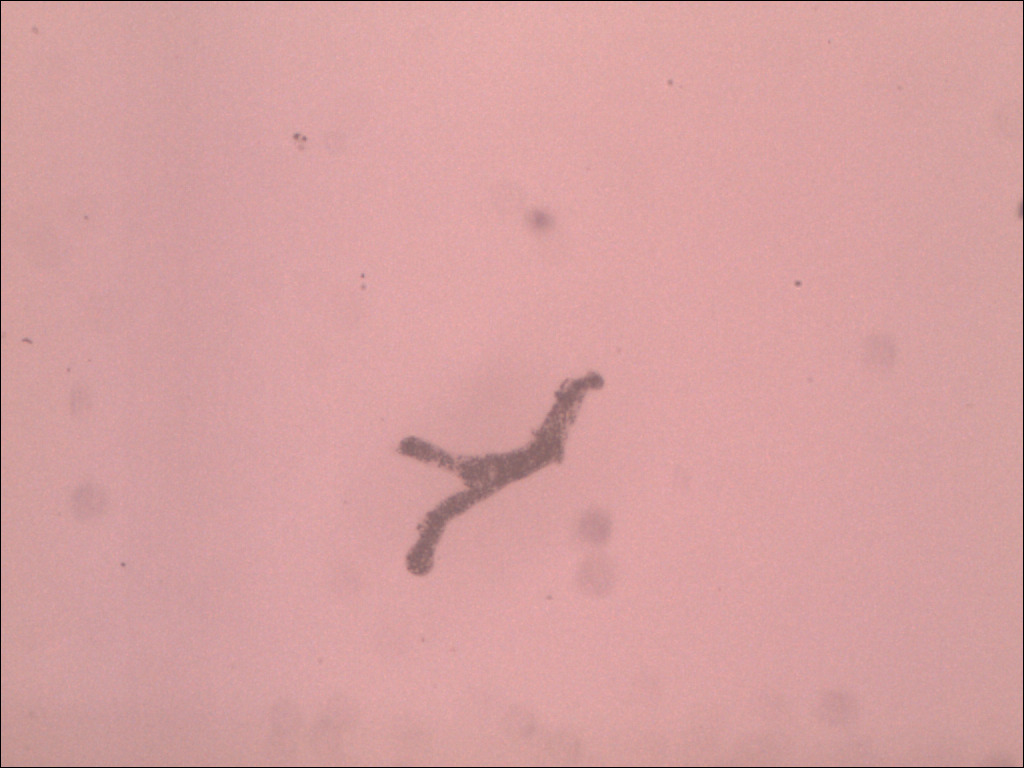amoeba: (392, 365, 625, 581)
